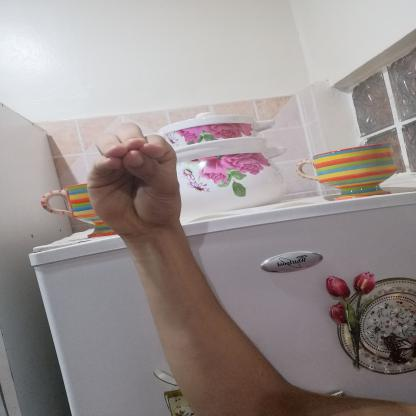HA: (64, 113, 212, 254)
